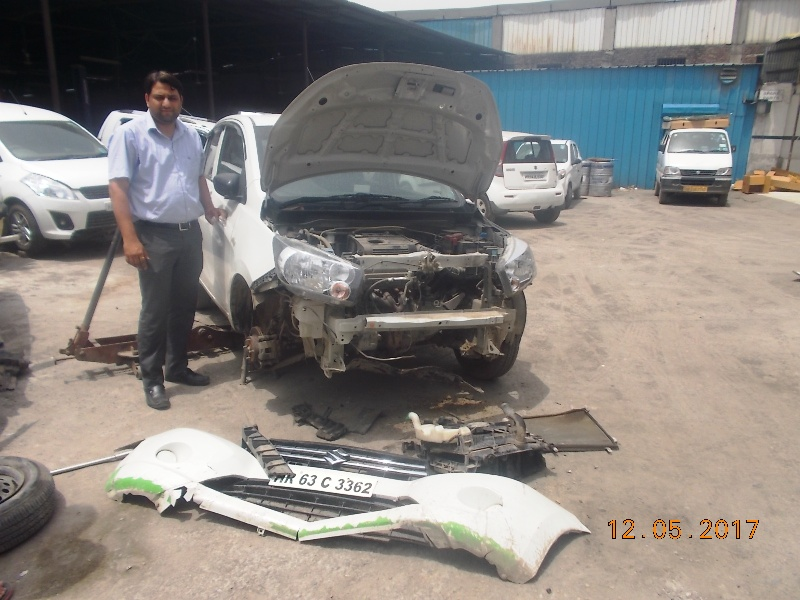Large_tear_or_damage: (241, 220, 565, 402)
